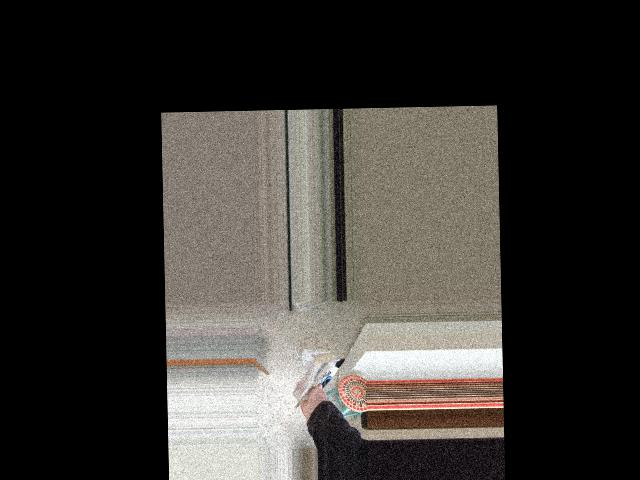cheese: (285, 343, 354, 418)
